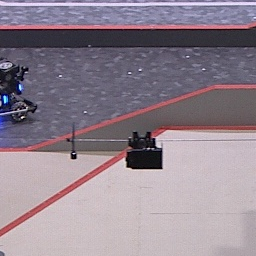Robot: (1, 58, 38, 120)
